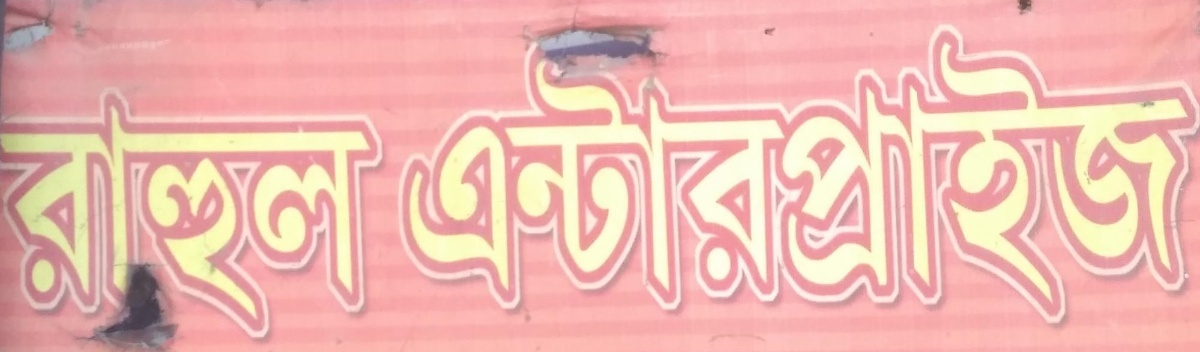text: (417, 17, 432, 327), (433, 17, 448, 327), (449, 17, 464, 327), (465, 17, 480, 327), (481, 17, 496, 327), (497, 17, 512, 327), (513, 17, 528, 327), (529, 17, 544, 327), (545, 17, 560, 327), (561, 17, 576, 327), (577, 17, 592, 327), (593, 17, 608, 327), (609, 17, 624, 327), (625, 17, 640, 327), (641, 17, 656, 327), (657, 17, 672, 327), (673, 17, 688, 327), (689, 17, 704, 327), (705, 17, 720, 327), (721, 17, 736, 327), (737, 17, 752, 327), (753, 17, 768, 327), (769, 17, 784, 327), (785, 17, 800, 327), (801, 17, 816, 327), (817, 17, 832, 327), (833, 17, 848, 327), (849, 17, 864, 327), (865, 17, 880, 327), (881, 17, 896, 327), (897, 17, 912, 327), (913, 17, 928, 327), (929, 17, 944, 327), (945, 17, 960, 327), (961, 17, 976, 327), (977, 17, 992, 327), (993, 17, 1008, 327), (1009, 17, 1024, 327), (1025, 17, 1040, 327), (1041, 17, 1056, 327), (1057, 17, 1072, 327), (1073, 17, 1088, 327), (1089, 17, 1104, 327), (1105, 17, 1120, 327), (1121, 17, 1136, 327), (1137, 17, 1152, 327), (1153, 17, 1168, 327), (1169, 17, 1184, 327), (402, 17, 416, 327), (1185, 17, 1199, 327), (17, 78, 32, 349), (33, 78, 48, 349), (49, 78, 64, 349), (65, 78, 80, 349), (81, 78, 96, 349), (97, 78, 112, 349), (113, 78, 128, 349), (129, 78, 144, 349), (145, 78, 160, 349), (161, 78, 176, 349), (177, 78, 192, 349), (193, 78, 208, 349), (209, 78, 224, 349), (225, 78, 240, 349), (241, 78, 256, 349), (257, 78, 272, 349), (273, 78, 288, 349), (289, 78, 304, 349), (305, 78, 320, 349), (321, 78, 336, 349), (337, 78, 352, 349), (353, 78, 368, 349), (369, 78, 384, 349), (2, 78, 16, 349), (385, 78, 391, 349)
